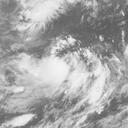cyclone: (24, 53, 79, 99)
